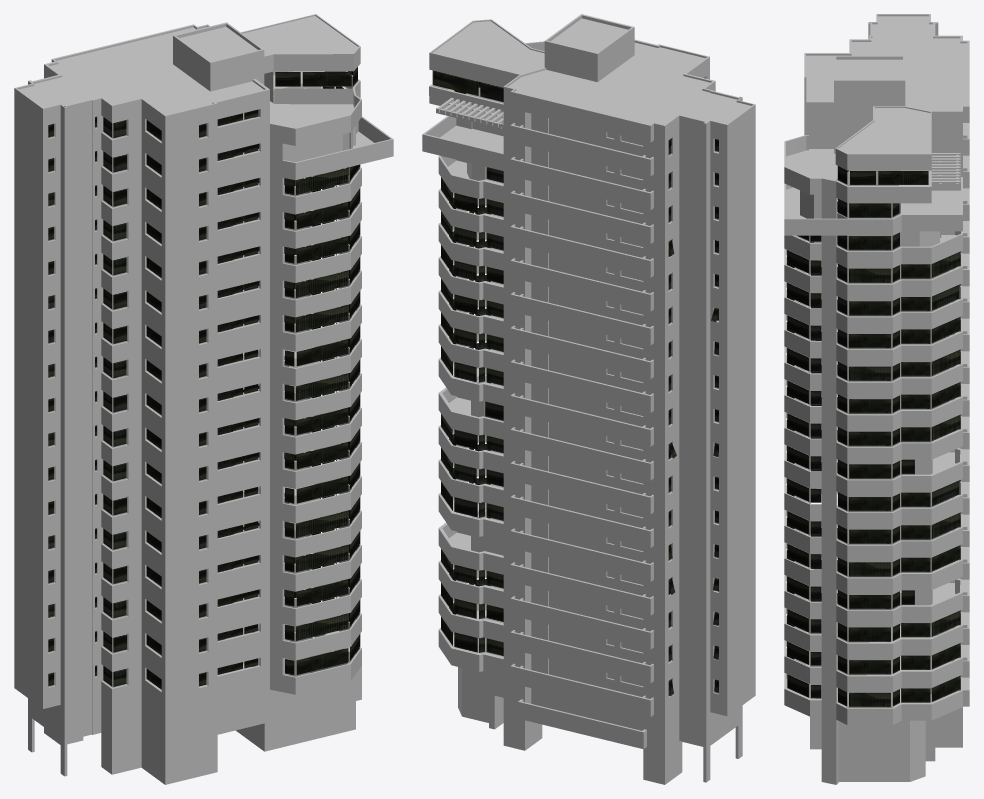
3 views of the same model, side by side, from view 1: azimuth 30°, elevation 25°; view 2: azimuth 150°, elevation 25°; view 3: azimuth 270°, elevation 25° (orthographic). The views are drawn at different scales.
Visible parts, largest first — view 1: BR-003; view 2: BR-003; view 3: BR-003.
Part boxes in pixels (<box>): BR-003: <box>14,14,393,784</box>; BR-003: <box>422,14,755,784</box>; BR-003: <box>784,14,969,784</box>.
Size of what is drawn, in the model's own units: 27.69 by 60.85 by 15.44.
